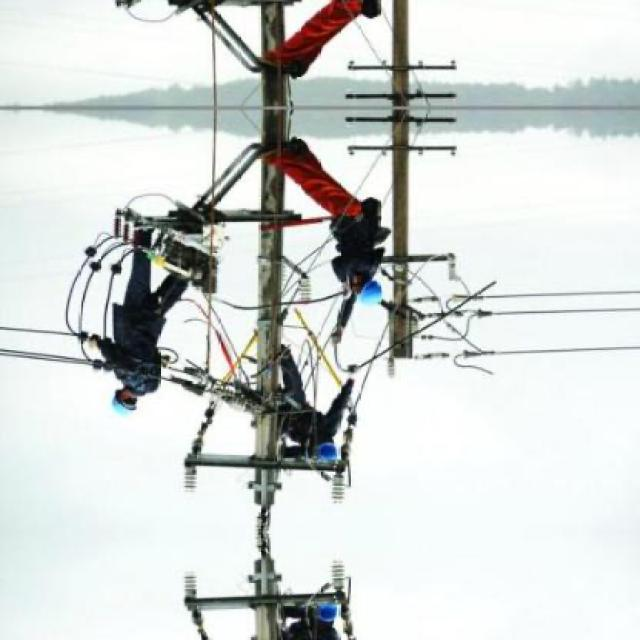con casco: (331, 249, 412, 317), (100, 369, 160, 433), (297, 429, 355, 472)
